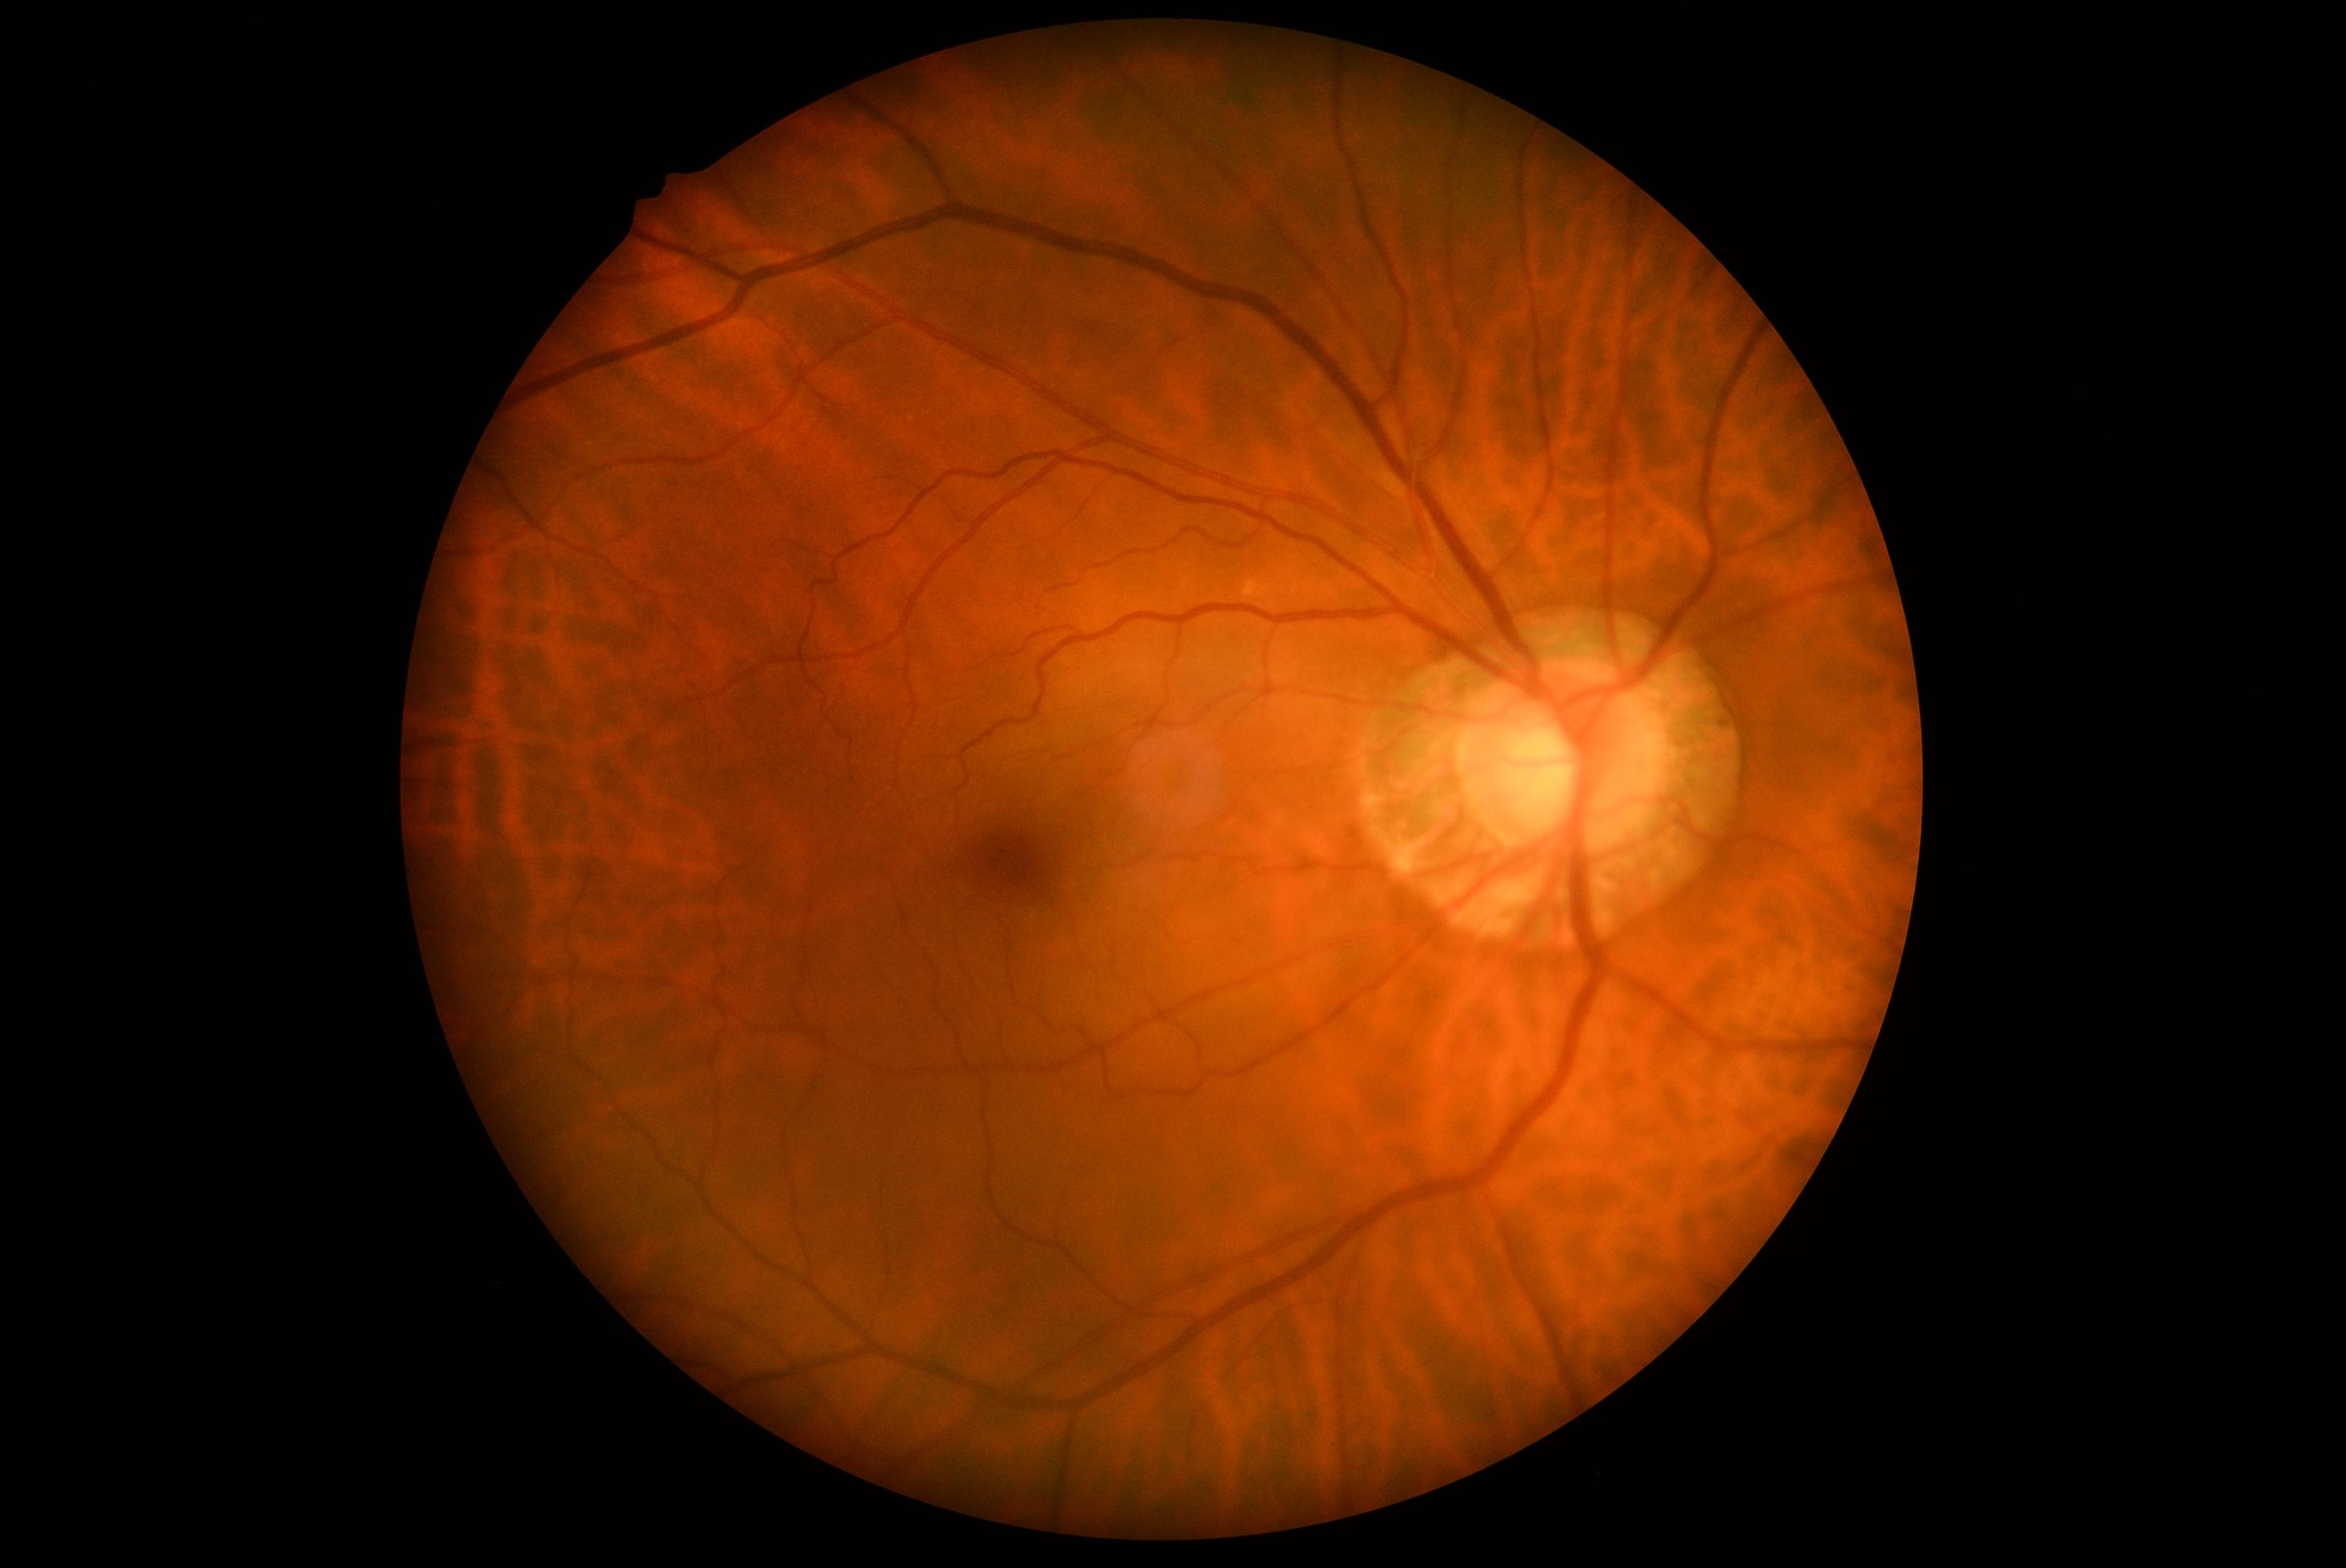Fovea: (939, 786, 1083, 933)
